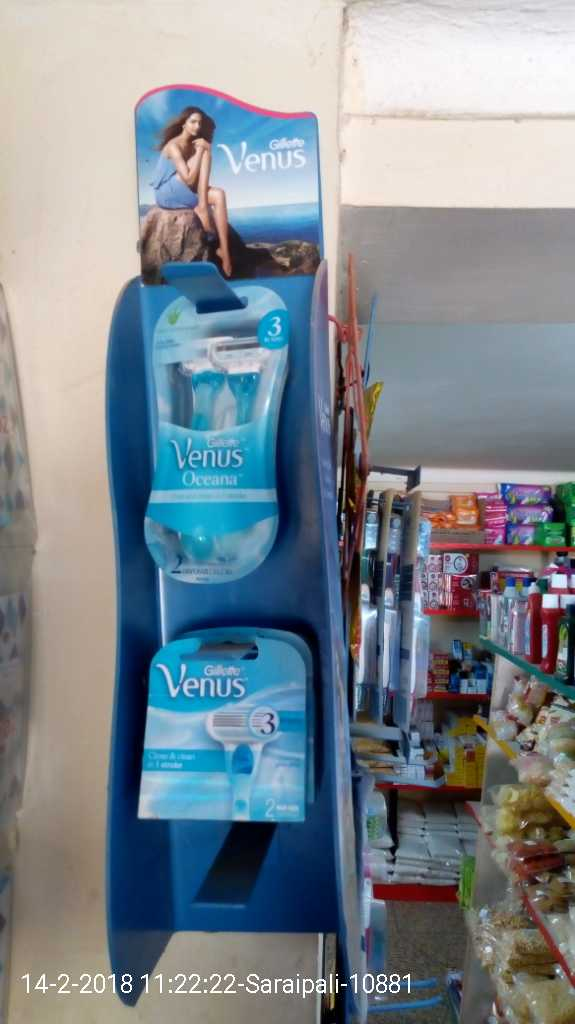venus: (142, 291, 278, 589), (134, 630, 311, 835)
